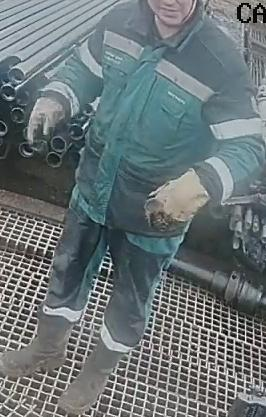gloves: (143, 167, 211, 233), (25, 94, 67, 147)
vest: (73, 19, 238, 230)
